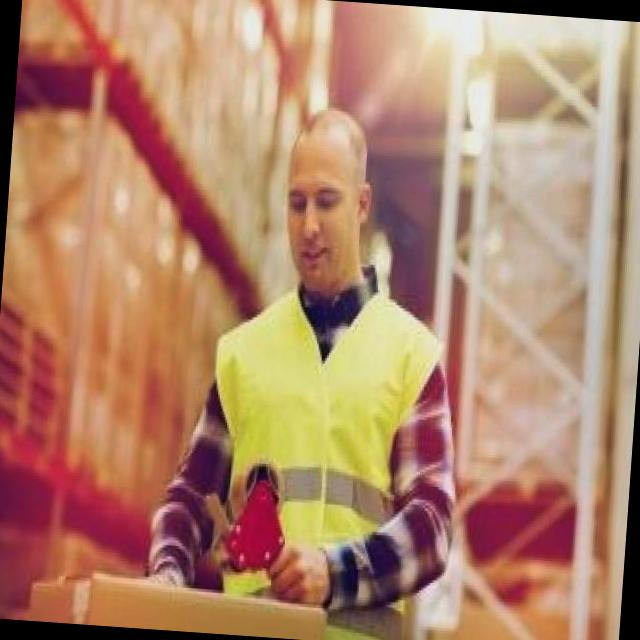vest: (220, 277, 439, 598)
